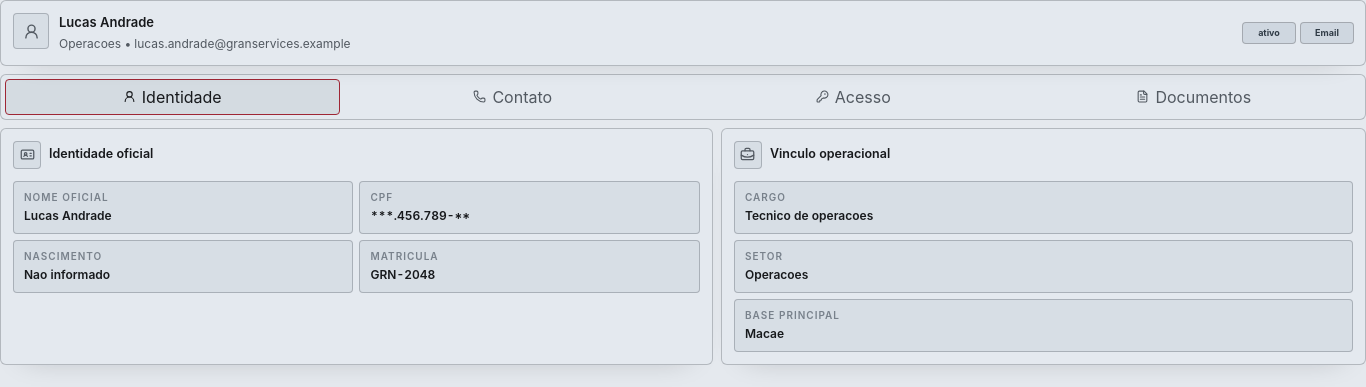
Test: ProfilePage › renders profile identity from the internal contract fixture seam behind tabs
The width and height of the screenshot is (1366, 387).
Check: the text "Lucas Andrade" in the row of "ativo" is shown, box x1=59 y1=14 x2=154 y2=30
Check: the text "GRN-2048" is shown, box x1=370 y1=266 x2=435 y2=282
Click the tab "Documentos" at (1194, 96), box x1=1026 y1=78 x2=1361 y2=114
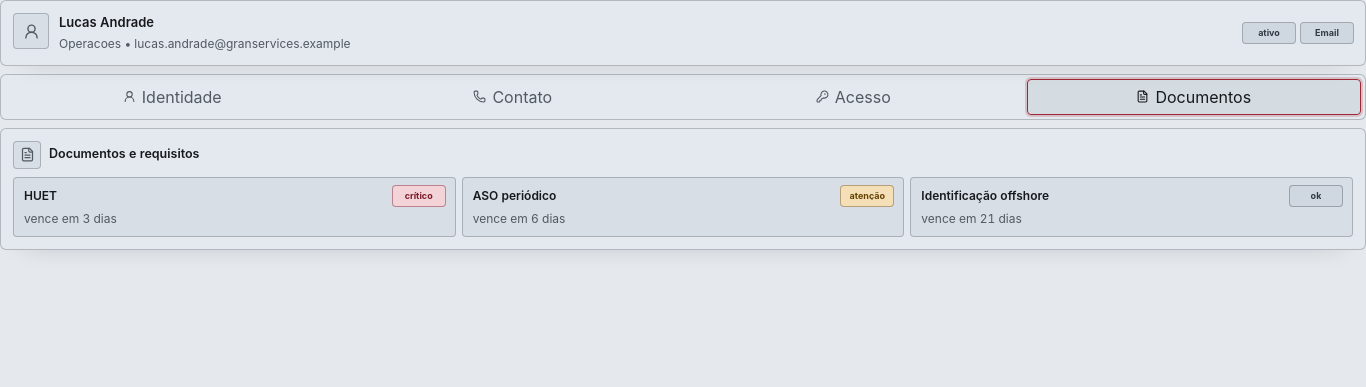
Check: the text "Documentos e requisitos" is shown, box x1=49 y1=145 x2=200 y2=164
